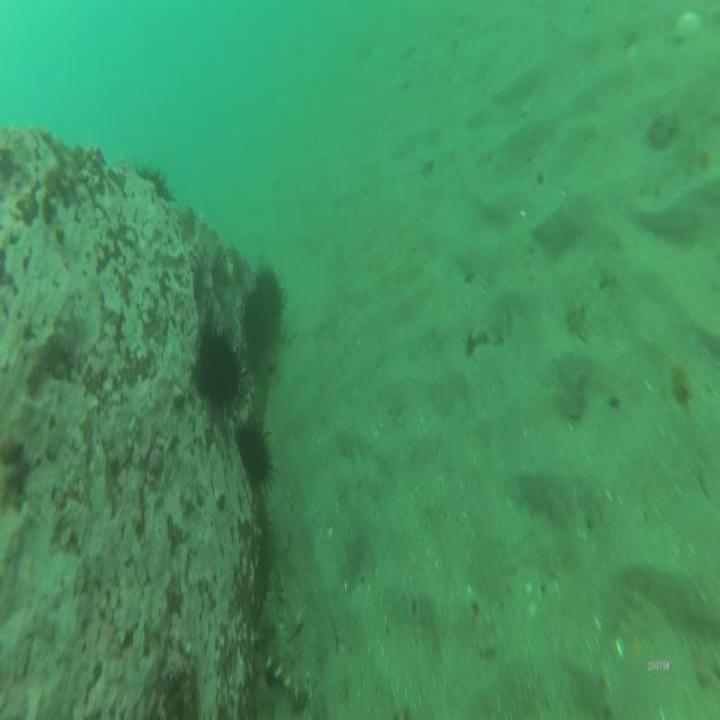echinus: (190, 329, 242, 412), (238, 412, 276, 489), (253, 265, 284, 332)
holothurian: (253, 624, 312, 711)
